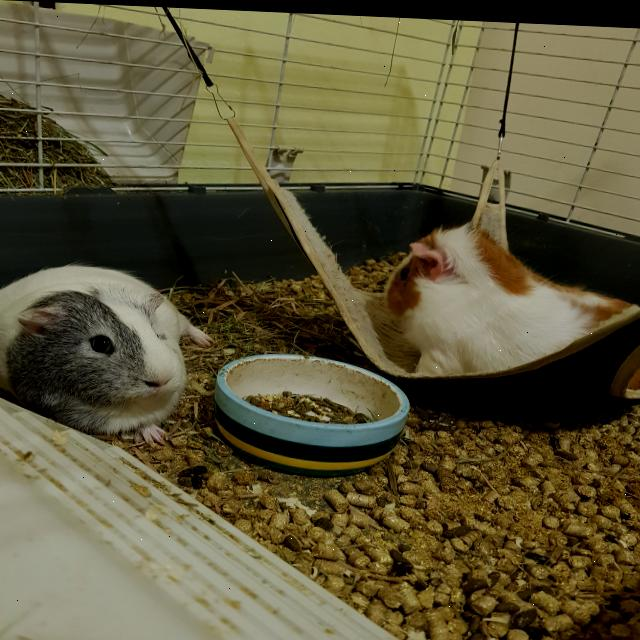guinea pig: (381, 212, 640, 389), (0, 257, 216, 451)
